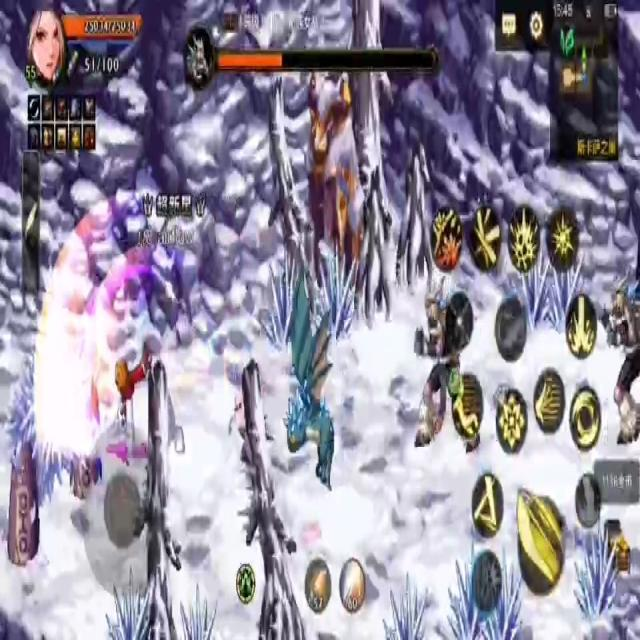player: (107, 350, 186, 462)
